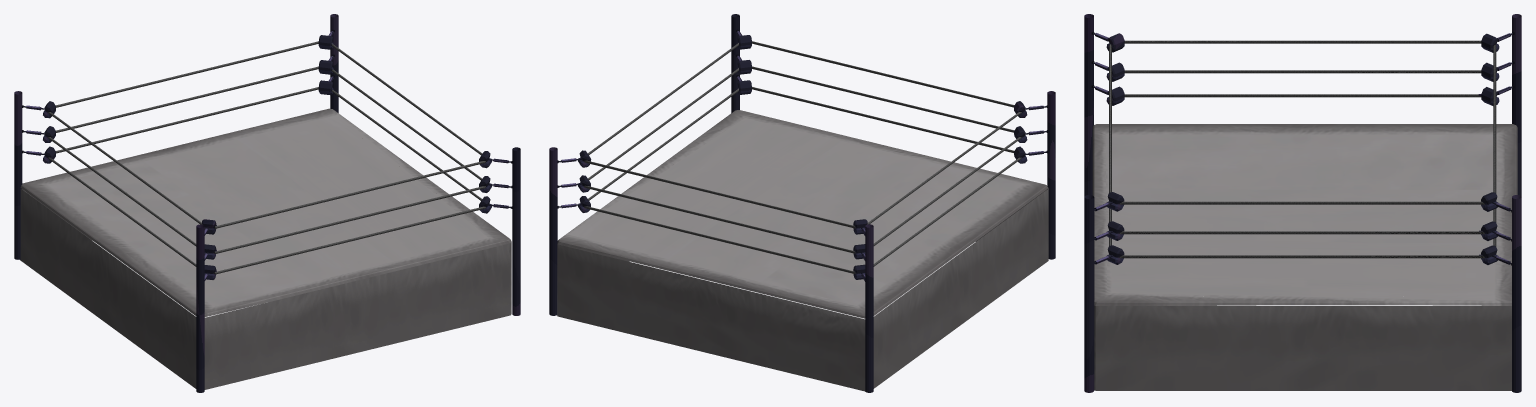
File: ring-standard-2.glb
The picture shows the model from 3 angles, left to right: view 1: azimuth 30°, elevation 25°; view 2: azimuth 150°, elevation 25°; view 3: azimuth 270°, elevation 25°; orthographic projection. The views are drawn at different scales.
Visible parts, largest first — view 1: canvas, apron_south, apron_west, ring_post_se, ring_post_sw, ring_post_nw, rope_south_bottom, rope_south_top, rope_south_middle, rope_north_top, rope_north_middle, rope_north_bottom (+7 smaller); view 2: canvas, apron_north, apron_west, ring_post_ne, ring_post_nw, ring_post_sw, rope_north_top, rope_north_middle, rope_north_bottom, rope_south_top, rope_south_middle, rope_south_bottom (+7 smaller); view 3: canvas, apron_east, ring_post_se, ring_post_ne, ring_post_sw, rope_east_middle, rope_east_bottom, rope_east_top, ring_post_nw, rope_west_top, rope_west_middle, rope_west_bottom (+2 smaller).
Boxes of the visible parts, x1=… form: canvas: x1=20, y1=108, x2=511, y2=316; apron_south: x1=204, y1=243, x2=510, y2=389; apron_west: x1=20, y1=189, x2=196, y2=388; ring_post_se: x1=512, y1=147, x2=520, y2=315; ring_post_sw: x1=196, y1=224, x2=204, y2=392; ring_post_nw: x1=14, y1=91, x2=22, y2=259; rope_south_bottom: x1=214, y1=206, x2=485, y2=274; rope_south_top: x1=214, y1=161, x2=485, y2=228; rope_south_middle: x1=214, y1=186, x2=485, y2=253; rope_north_top: x1=55, y1=41, x2=318, y2=107; rope_north_middle: x1=56, y1=66, x2=318, y2=132; rope_north_bottom: x1=56, y1=87, x2=318, y2=153; canvas: x1=557, y1=110, x2=1048, y2=318; apron_north: x1=557, y1=244, x2=865, y2=391; apron_west: x1=873, y1=189, x2=1048, y2=388; ring_post_ne: x1=549, y1=147, x2=557, y2=315; ring_post_nw: x1=865, y1=224, x2=873, y2=392; ring_post_sw: x1=1047, y1=91, x2=1055, y2=259; rope_north_top: x1=584, y1=160, x2=855, y2=228; rope_north_middle: x1=584, y1=186, x2=855, y2=253; rope_north_bottom: x1=584, y1=206, x2=855, y2=273; rope_south_top: x1=752, y1=41, x2=1014, y2=107; rope_south_middle: x1=752, y1=66, x2=1014, y2=132; rope_south_bottom: x1=752, y1=87, x2=1014, y2=152; canvas: x1=1092, y1=124, x2=1517, y2=390; apron_east: x1=1095, y1=306, x2=1511, y2=390; ring_post_se: x1=1084, y1=195, x2=1094, y2=392; ring_post_ne: x1=1512, y1=195, x2=1521, y2=392; ring_post_sw: x1=1084, y1=14, x2=1093, y2=196; rope_east_middle: x1=1119, y1=231, x2=1484, y2=234; rope_east_bottom: x1=1119, y1=255, x2=1484, y2=258; rope_east_top: x1=1119, y1=201, x2=1484, y2=204; ring_post_nw: x1=1512, y1=14, x2=1521, y2=196; rope_west_top: x1=1124, y1=40, x2=1481, y2=43; rope_west_middle: x1=1124, y1=70, x2=1481, y2=73; rope_west_bottom: x1=1124, y1=94, x2=1481, y2=97.
Bounding box in the file's own units: 7.04 × 3.46 × 7.03.
Materials: 8 (8 with a texture image).
